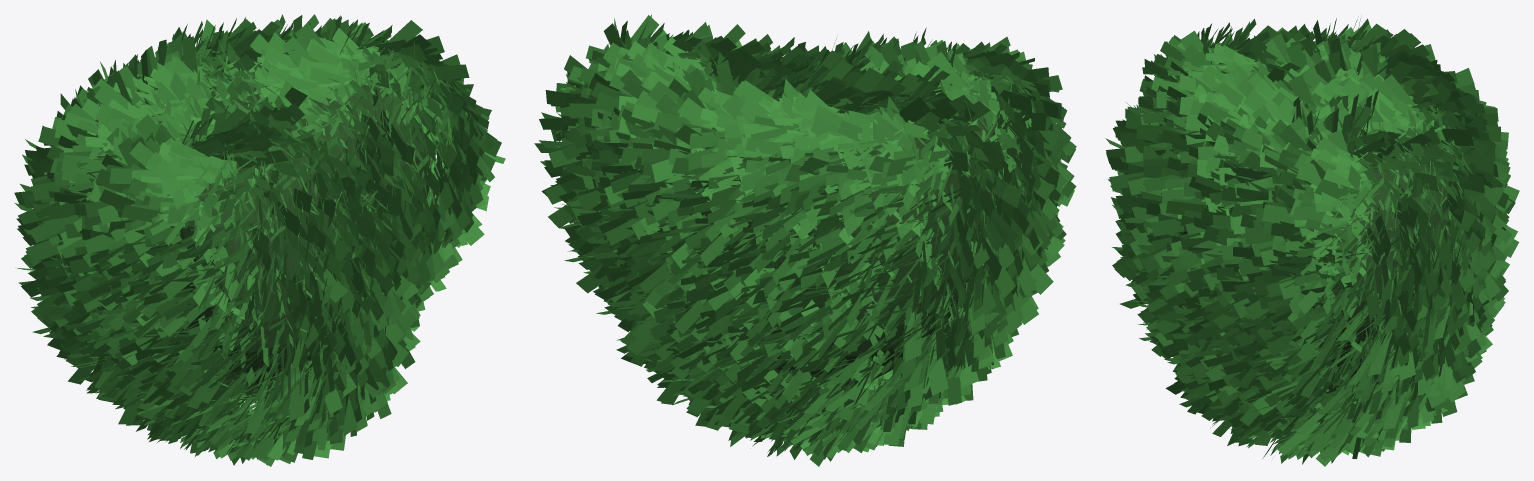
The model's file is Bush.fbx.
The picture shows the model from 3 angles, left to right: view 1: azimuth 30°, elevation 25°; view 2: azimuth 150°, elevation 25°; view 3: azimuth 270°, elevation 25°; orthographic projection. The views are drawn at different scales.
Parts seen in each view (by area): view 1: Sphere; view 2: Sphere; view 3: Sphere.
Part boxes in pixels (<box>): Sphere: <box>14,14,505,466</box>; Sphere: <box>534,14,1076,466</box>; Sphere: <box>1105,18,1519,466</box>.
Bounding box in the file's own units: 284 × 229 × 228.
